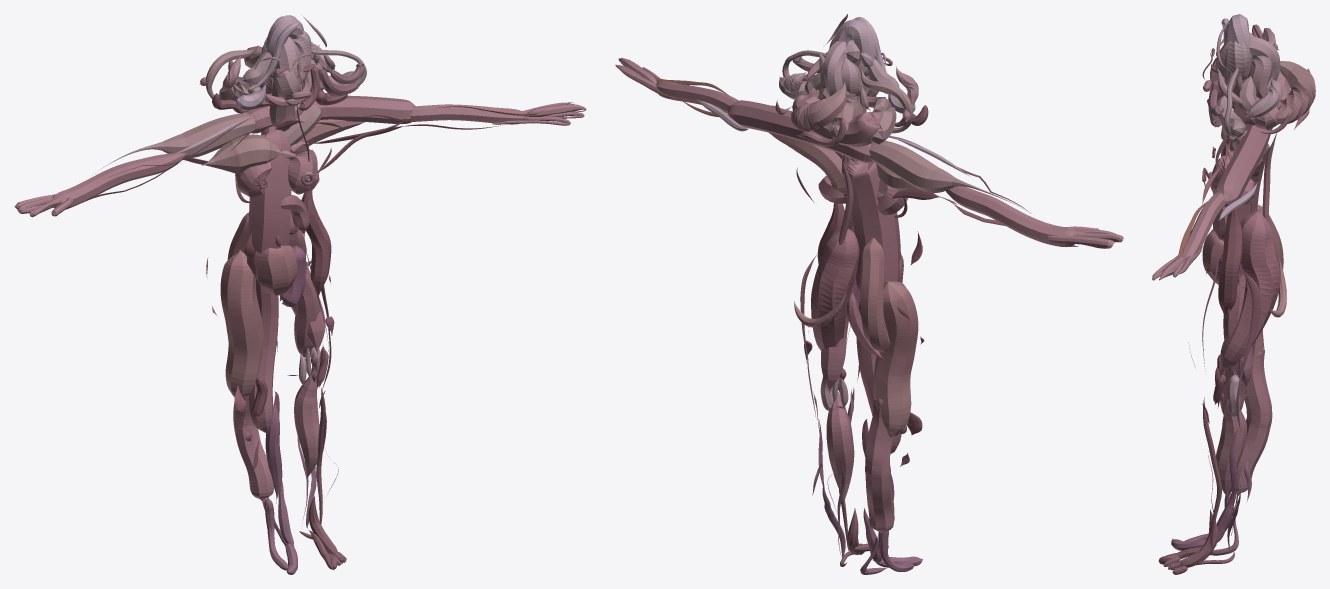
File: atley_01.fbx
The picture shows the model from 3 angles, left to right: view 1: azimuth 30°, elevation 25°; view 2: azimuth 150°, elevation 25°; view 3: azimuth 270°, elevation 25°; orthographic projection. The views are drawn at different scales.
Visible parts, largest first — view 1: Paint; view 2: Paint; view 3: Paint.
Boxes of the visible parts, bbox=[...] form: Paint: bbox=[14, 15, 586, 574]; Paint: bbox=[615, 14, 1123, 574]; Paint: bbox=[1152, 14, 1315, 574].
Size of the model in its own units: 2.82 by 2.75 by 0.7463.
